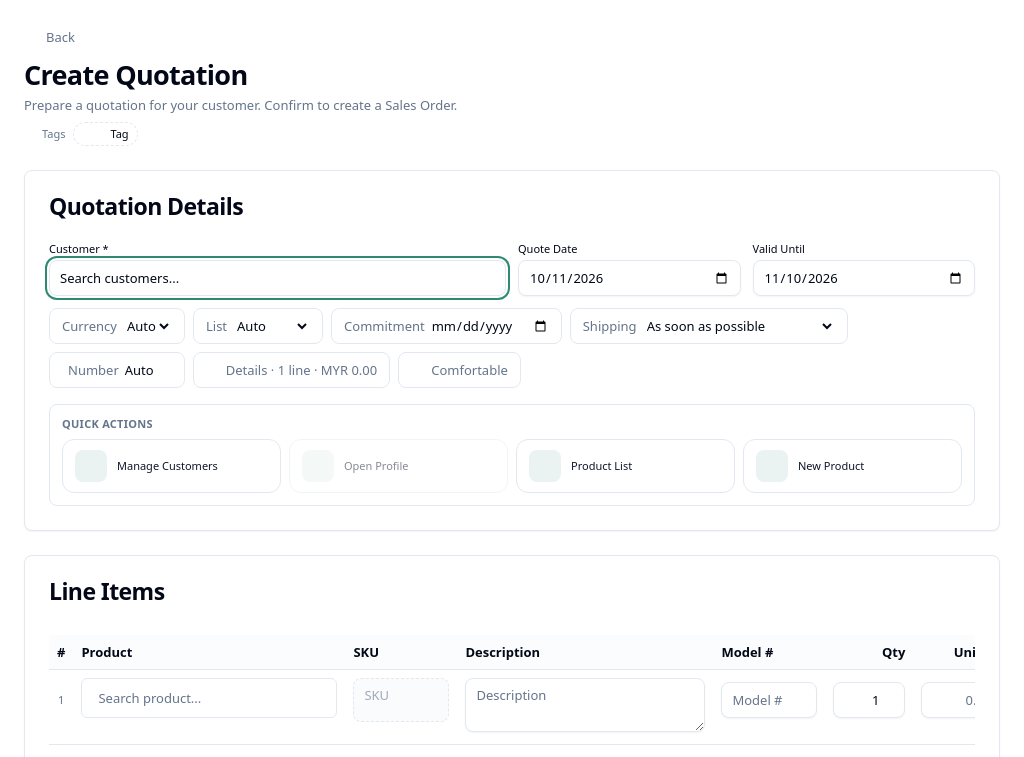
it: QuotationCreatePage — amounts follow the selected price list currency (#322) › formats the totals in the USD price list currency, not the tenant default
Select "VIP · USD" in the dropdown named "Price list". click: x=272, y=326
box: [233,316,310,336]
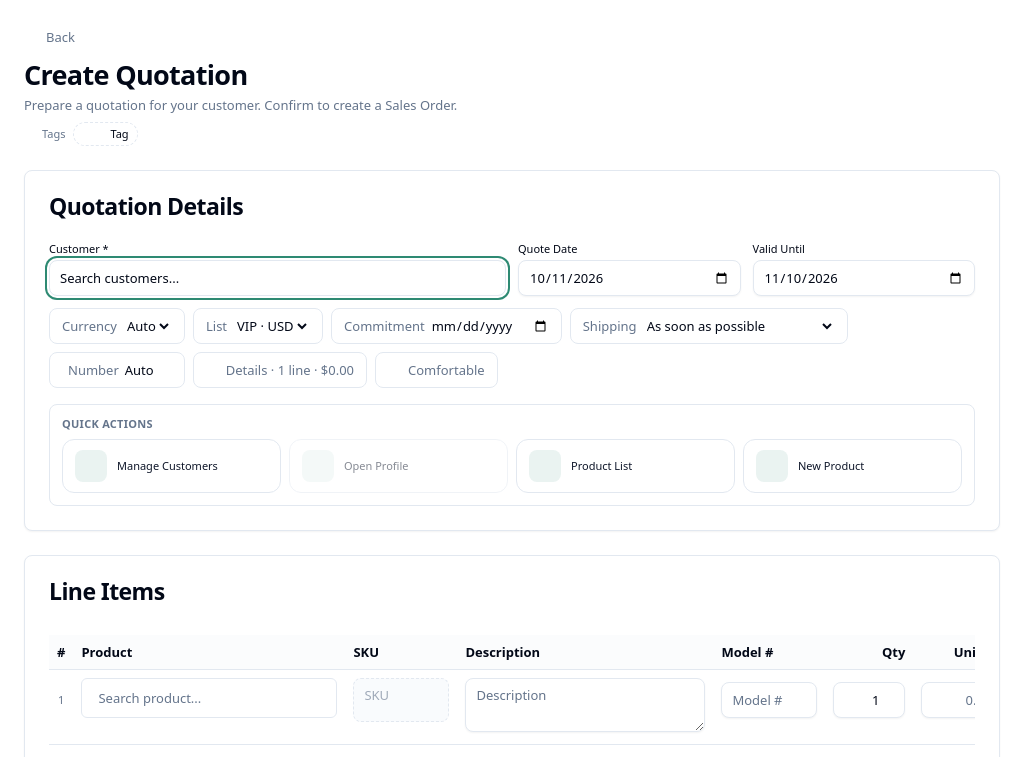
Click the button titled "References, contacts, addresses, logistics and terms". click: x=280, y=370
box: [193,352,367,388]
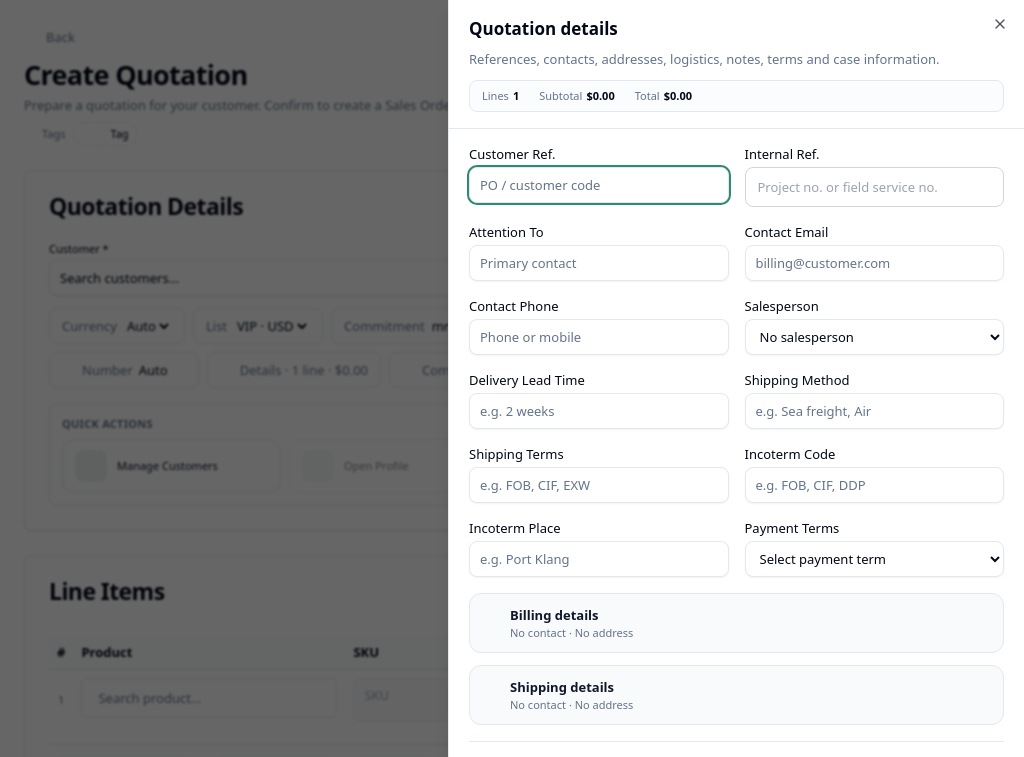
Expected: the text with test id "summary-total" reads "$0.00", [664,88,692,103]
